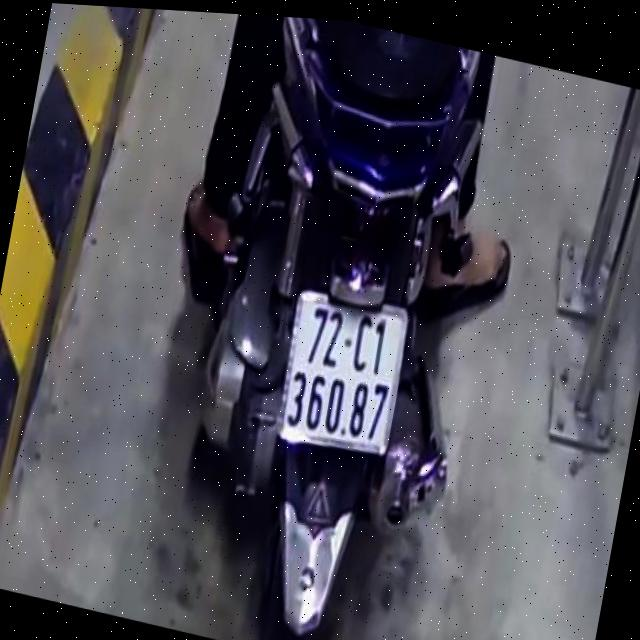motorcycle: (143, 8, 531, 640)
plate: (264, 278, 414, 469)
